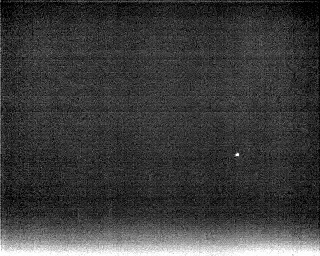BIRD: (233, 150, 242, 160)
